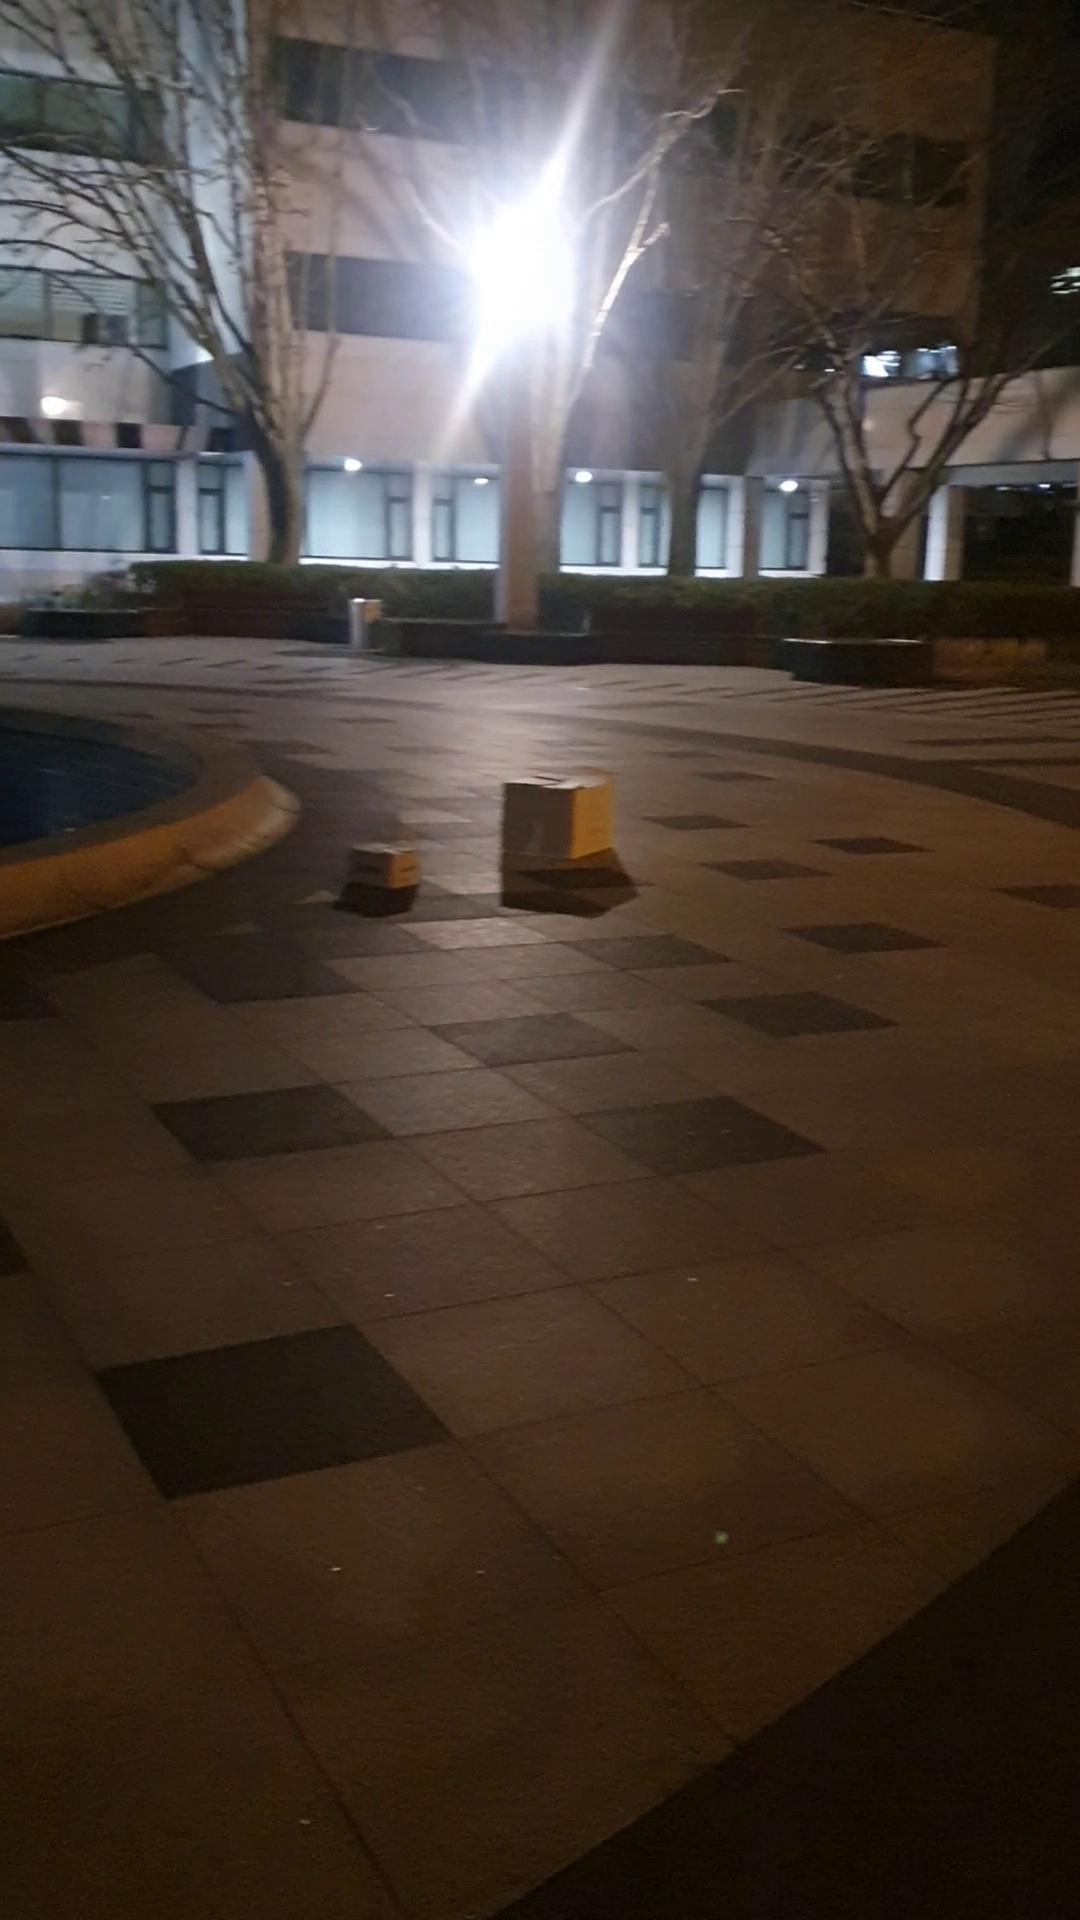Box: (493, 756, 620, 885), (343, 833, 427, 899)
